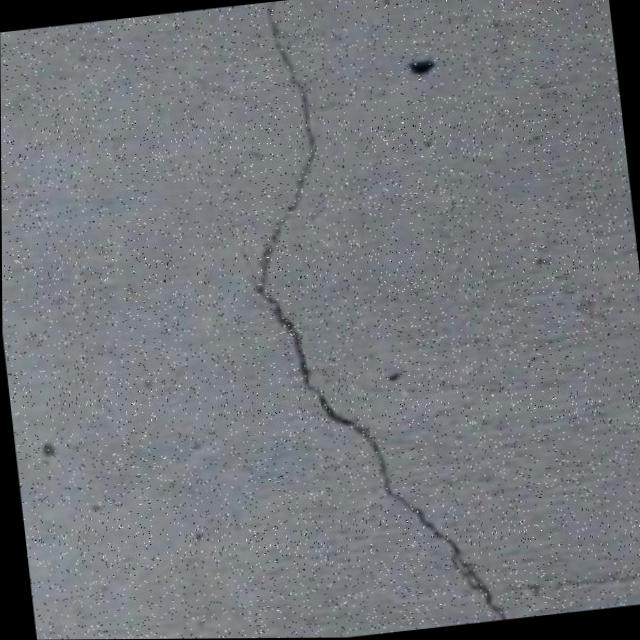Crack: (213, 0, 522, 639)
